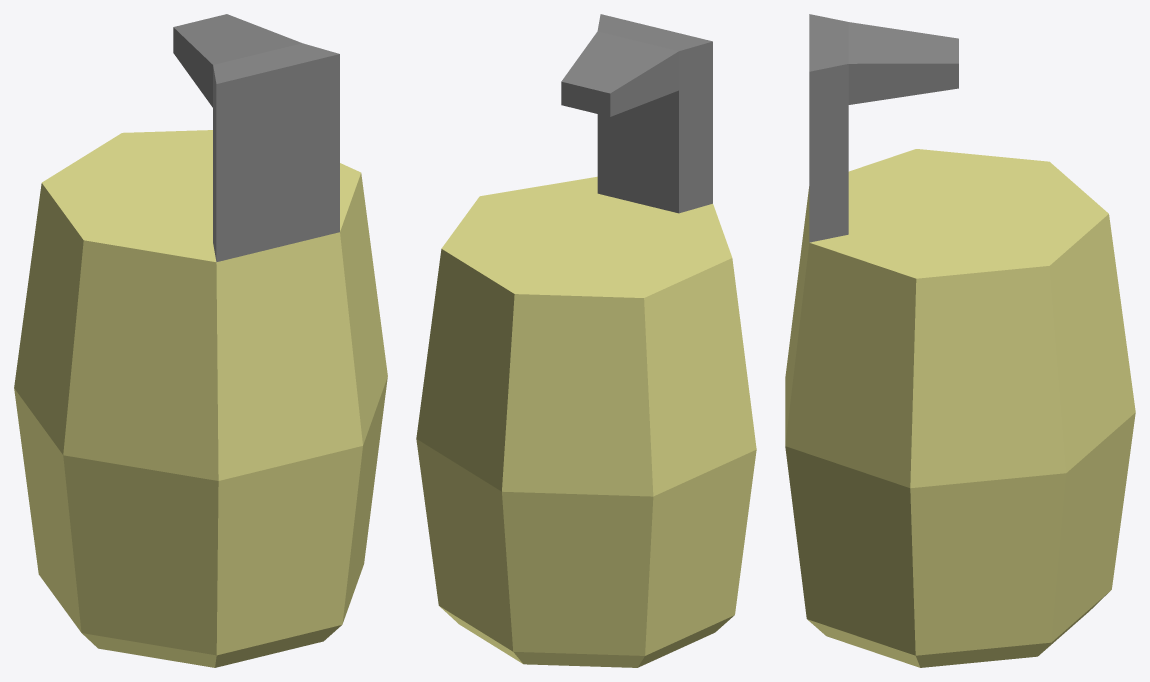
Rendered from Soapdispenser.fbx.
The picture shows the model from 3 angles, left to right: view 1: azimuth 30°, elevation 25°; view 2: azimuth 150°, elevation 25°; view 3: azimuth 270°, elevation 25°; orthographic projection. The views are drawn at different scales.
Visible parts, largest first — view 1: Soapdispenser; view 2: Soapdispenser; view 3: Soapdispenser.
Boxes of the visible parts, bbox=[...] form: Soapdispenser: bbox=[14, 14, 387, 667]; Soapdispenser: bbox=[416, 14, 756, 667]; Soapdispenser: bbox=[785, 14, 1135, 667].
Size of the model in its own units: 22.35 by 38.95 by 21.79.
